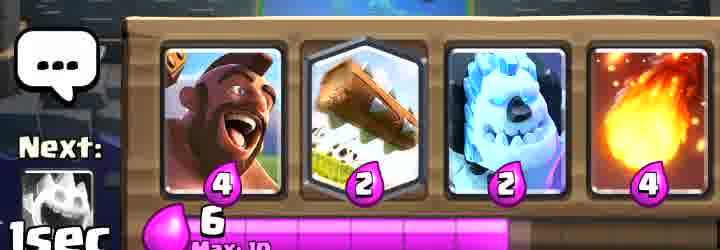fireball: (596, 47, 710, 193)
hog-rider: (167, 47, 283, 197)
ice-golem: (446, 53, 560, 199)
log: (310, 43, 423, 192)
